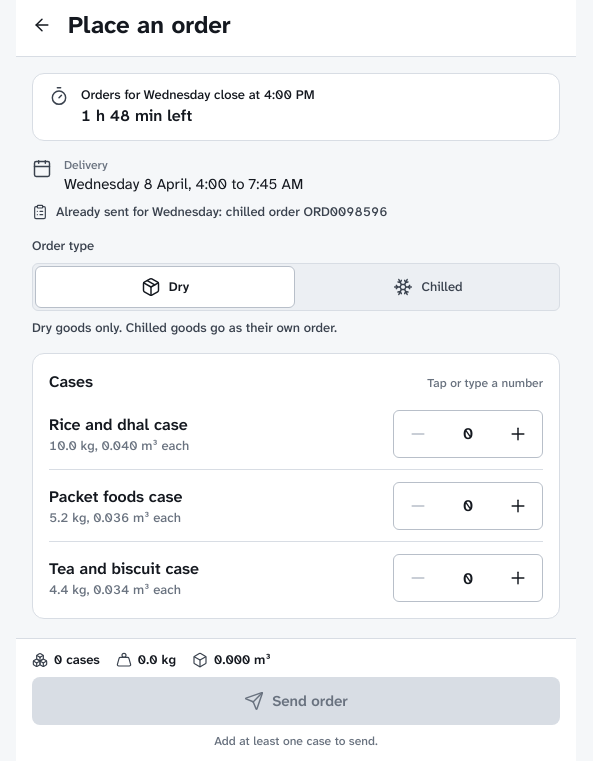
Place an order › keeps the type the store is counting when a later answer changes the default
Click the button named "More rice and dhal cases".
click(518, 434)  # box [494,410,542,458]
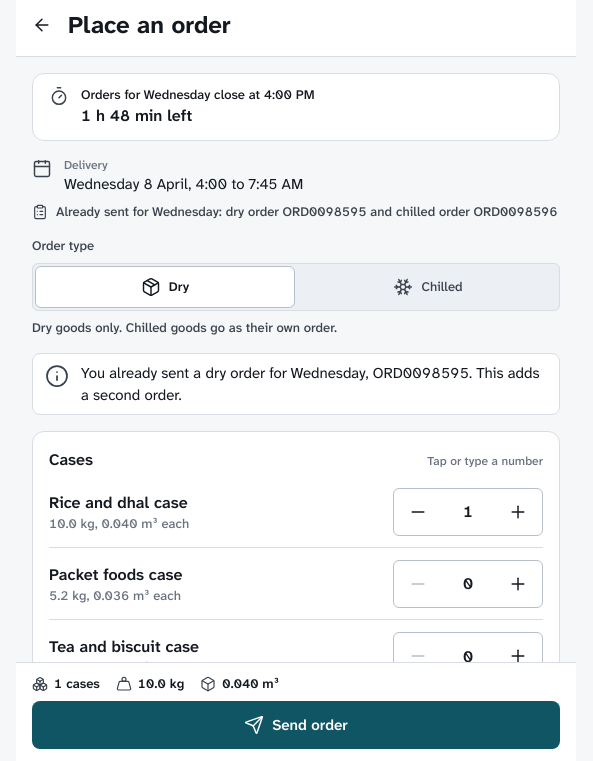
Now the text "You already sent a dry order" is shown, box [81,362,547,406]
Now the button "Send order" is enabled, box [32,701,560,749]
